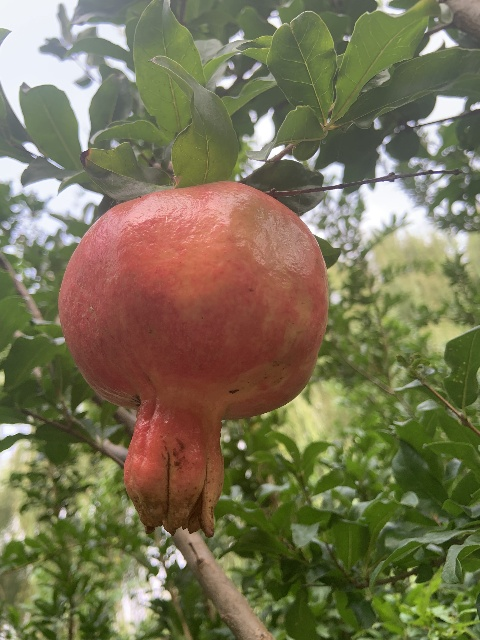ripe: (56, 182, 327, 540)
